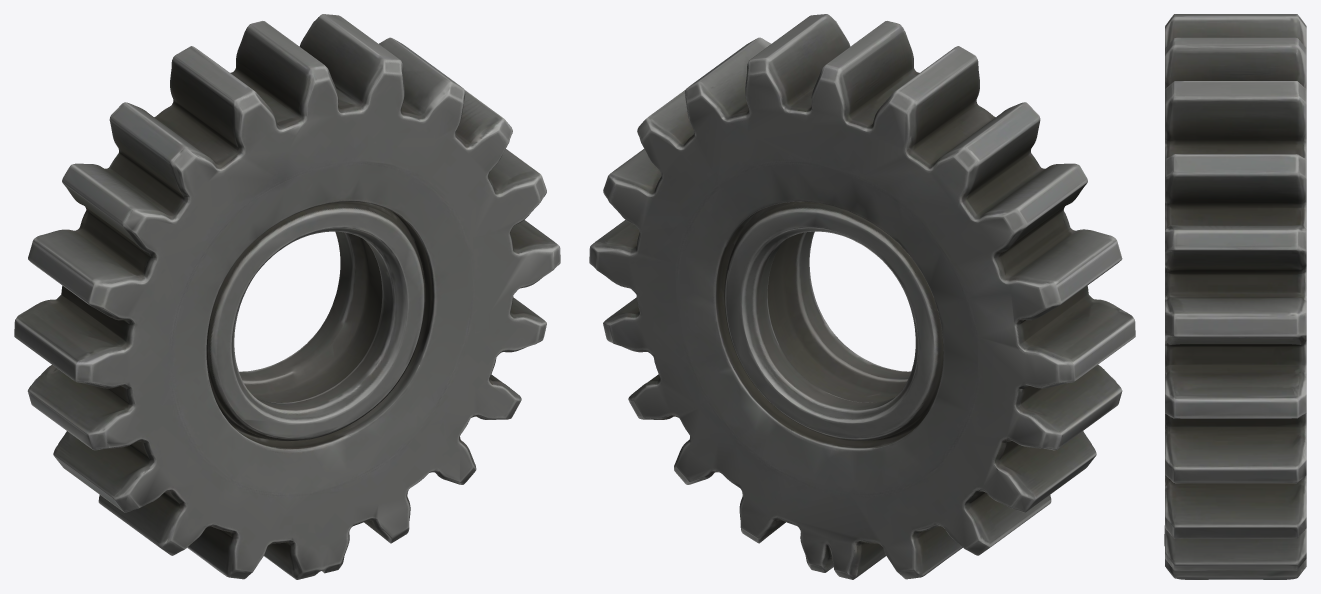
Rendered from settings-gear.glb.
The picture shows the model from 3 angles, left to right: view 1: azimuth 30°, elevation 25°; view 2: azimuth 150°, elevation 25°; view 3: azimuth 270°, elevation 25°; orthographic projection.
Parts seen in each view (by area): view 1: node_0; view 2: node_0; view 3: node_0.
Boxes of the visible parts, x1,y1,x2,y2 form: node_0: (14, 14, 560, 579); node_0: (589, 14, 1135, 579); node_0: (1164, 14, 1306, 579).
Bounding box in the file's own units: 1.17 × 1.17 × 0.2936.
Materials: 1 (1 with a texture image).
